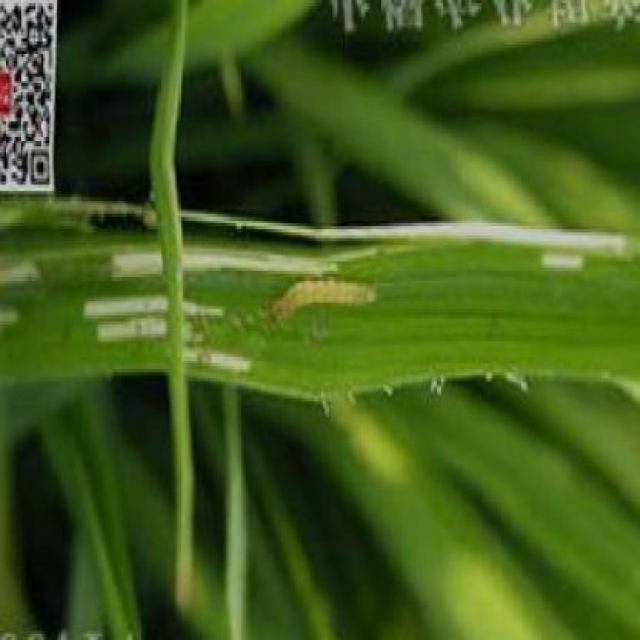leaf-folder: (238, 261, 387, 344)
